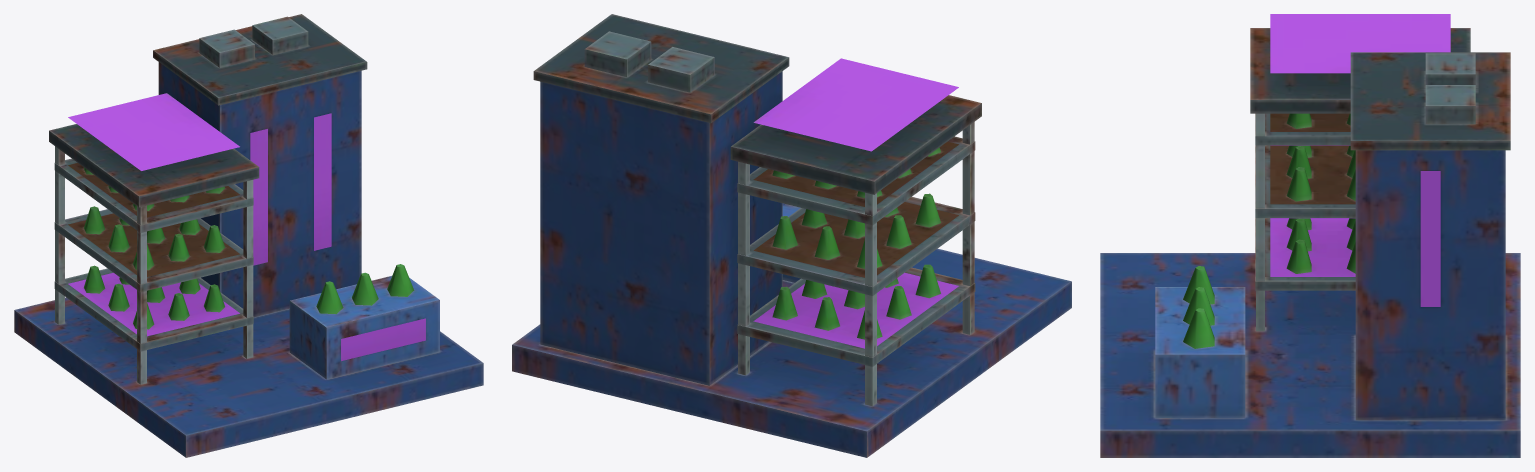
The model's file is hydroponic_bay.glb.
The picture shows the model from 3 angles, left to right: view 1: azimuth 30°, elevation 25°; view 2: azimuth 150°, elevation 25°; view 3: azimuth 270°, elevation 25°; orthographic projection. The views are drawn at different scales.
Parts seen in each view (by area): view 1: te_hydroponic_bay; view 2: te_hydroponic_bay; view 3: te_hydroponic_bay.
Part boxes in pixels (x1,y1,x2,y2): te_hydroponic_bay: (14, 14, 483, 457); te_hydroponic_bay: (512, 14, 1071, 457); te_hydroponic_bay: (1100, 14, 1520, 457).
Size of the model in its own units: 0.84 by 0.72 by 0.84.
Materials: 1 (1 with a texture image).
